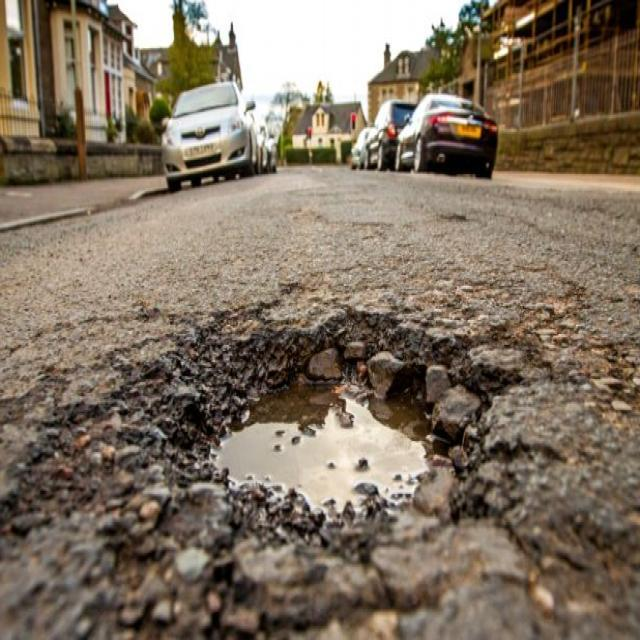Pothole: (147, 304, 534, 548)
